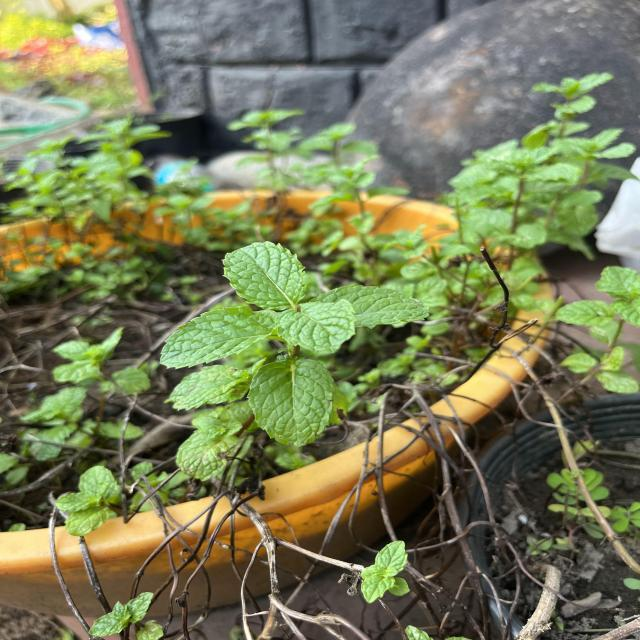Mentha spicata: (246, 358, 336, 448), (159, 305, 274, 370), (220, 240, 307, 312), (308, 284, 431, 330), (274, 298, 358, 356)
